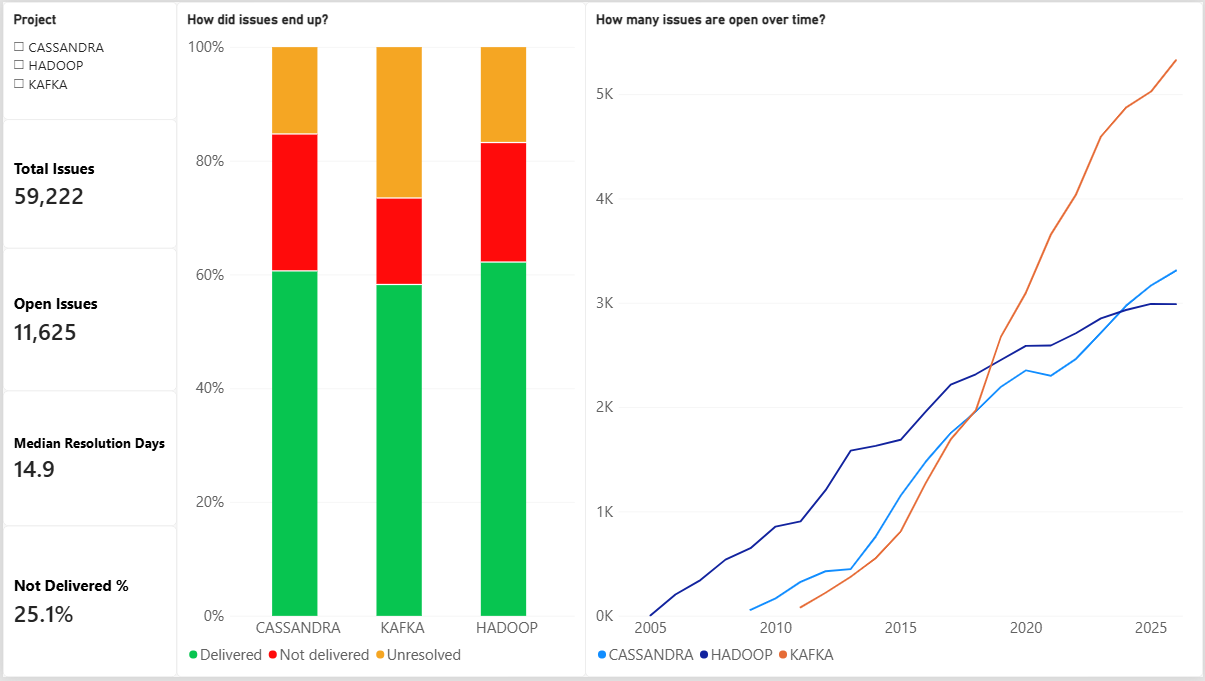

Layout of this report page (visuals, bound fields, positions):
{"tool":"powerbi","page":{"name":"Overview","canvas":[1920,1080],"ordinal":0},"visuals":[{"type":"cardVisual","fields":{"Data":["fact_issues.Total Issues Card"]},"box":[0,188,278,206],"z":0},{"type":"cardVisual","fields":{"Data":["fact_issues.Open Issues Card"]},"box":[0,394,278,228],"z":1000},{"type":"cardVisual","fields":{"Data":["fact_issues.Median Resolution Days"]},"box":[0,622,278,216],"z":2000},{"type":"cardVisual","fields":{"Data":["fact_issues.Not Delivered %"]},"box":[0,838,278,242],"z":3000},{"type":"listSlicer","title":"Project","fields":{"Values":["dim_project.project"]},"box":[0,0,278,188],"z":4000},{"type":"lineChart","title":"How many issues are open over time?","fields":{"Category":["dim_date.Year"],"Series":["dim_project.project"],"Y":["fact_issues.Open Backlog"]},"box":[932,0,988,1080],"z":5000},{"type":"hundredPercentStackedColumnChart","title":"How did issues end up?","fields":{"Category":["dim_project.project"],"Series":["fact_issues.outcome_group"],"Y":["fact_issues.Total Issues"]},"box":[278,0,654,1080],"z":6000}]}

Visuals, with their boxes in screenshot pixels (x1, y1, x2, y2), scaled from the page's 1920x1080 canvas onto the 1205x681 screenshot:
cardVisual - fact_issues.Total Issues Card: 0,119,174,248
cardVisual - fact_issues.Open Issues Card: 0,248,174,392
cardVisual - fact_issues.Median Resolution Days: 0,392,174,528
cardVisual - fact_issues.Not Delivered %: 0,528,174,680
"Project" listSlicer: 0,0,174,119
"How many issues are open over time?" lineChart: 585,0,1204,680
"How did issues end up?" hundredPercentStackedColumnChart: 174,0,585,680
